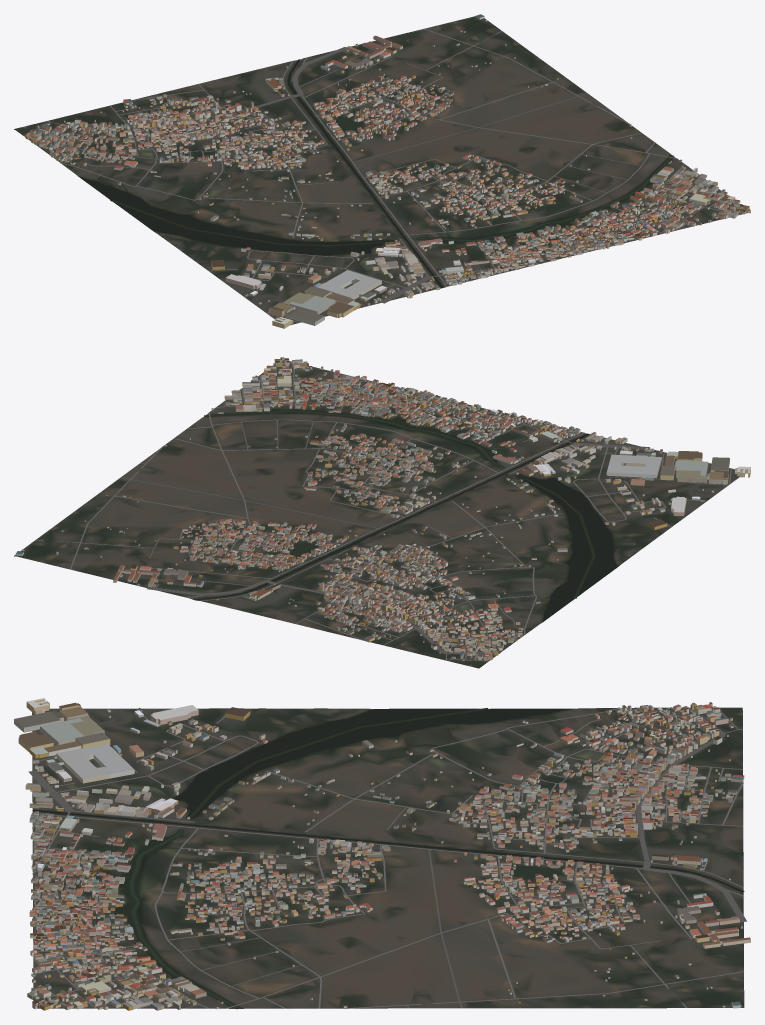
The picture shows the model from 3 angles, top to bottom: view 1: azimuth 30°, elevation 25°; view 2: azimuth 150°, elevation 25°; view 3: azimuth 270°, elevation 25°; orthographic projection. The views are drawn at different scales.
Parts seen in each view (by area): view 1: ground, buildings, roads, water; view 2: ground, buildings, roads, water; view 3: ground, buildings, water, roads.
Boxes of the visible parts, box(x1,y1,x2,y2) form: ground: box(14, 16, 750, 325); buildings: box(25, 14, 750, 328); roads: box(24, 28, 741, 322); water: box(79, 52, 673, 287); ground: box(14, 360, 739, 668); buildings: box(15, 357, 750, 660); roads: box(36, 361, 731, 661); water: box(104, 408, 616, 621); ground: box(32, 707, 744, 1008); buildings: box(14, 698, 750, 1010); water: box(32, 708, 744, 1009); roads: box(28, 707, 746, 1008).
Size of the model in its own units: 1434 by 30.39 by 1454.
